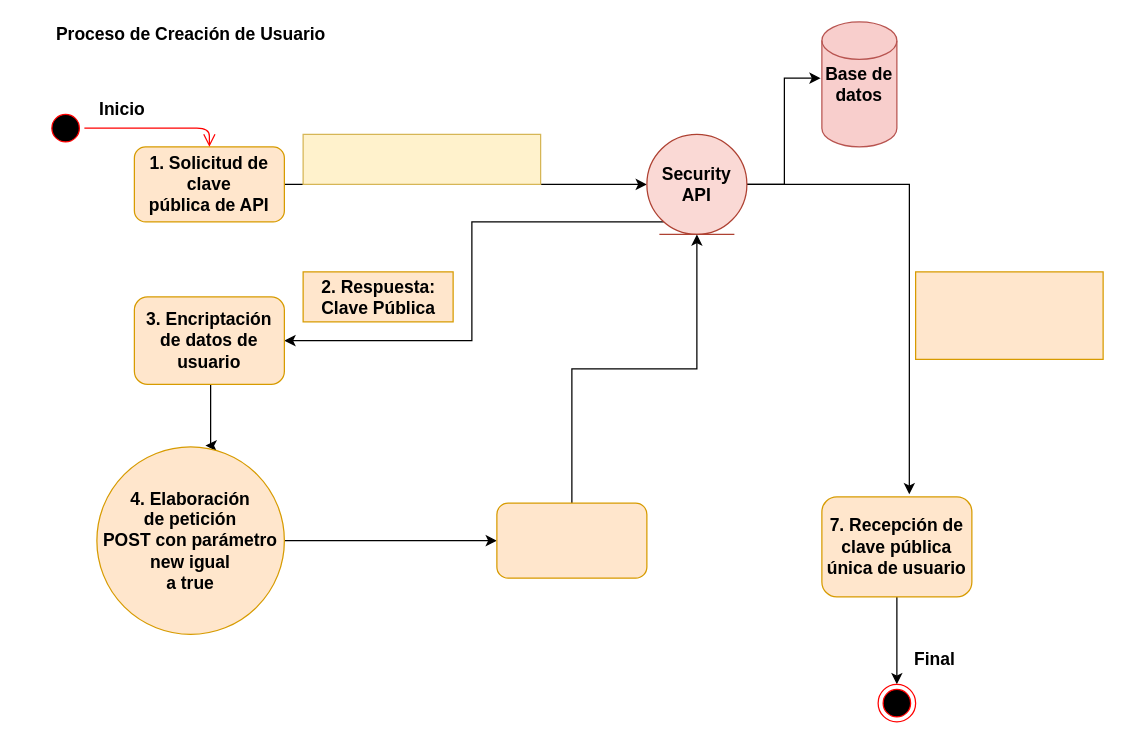
Some shapes in this 1125 by 744 pixel diagram are drawn without their labels. Each missing label, with the centre of its shape:
5. Envío de petición POST: (571,540)
6. Respuesta con clave pública para el nuevo usuario: (1008,315)
Método Get https://<server>:5003/Security/: (421,158)
